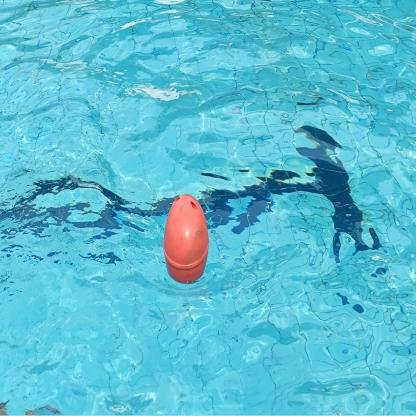red_buoy: (163, 191, 210, 284)
